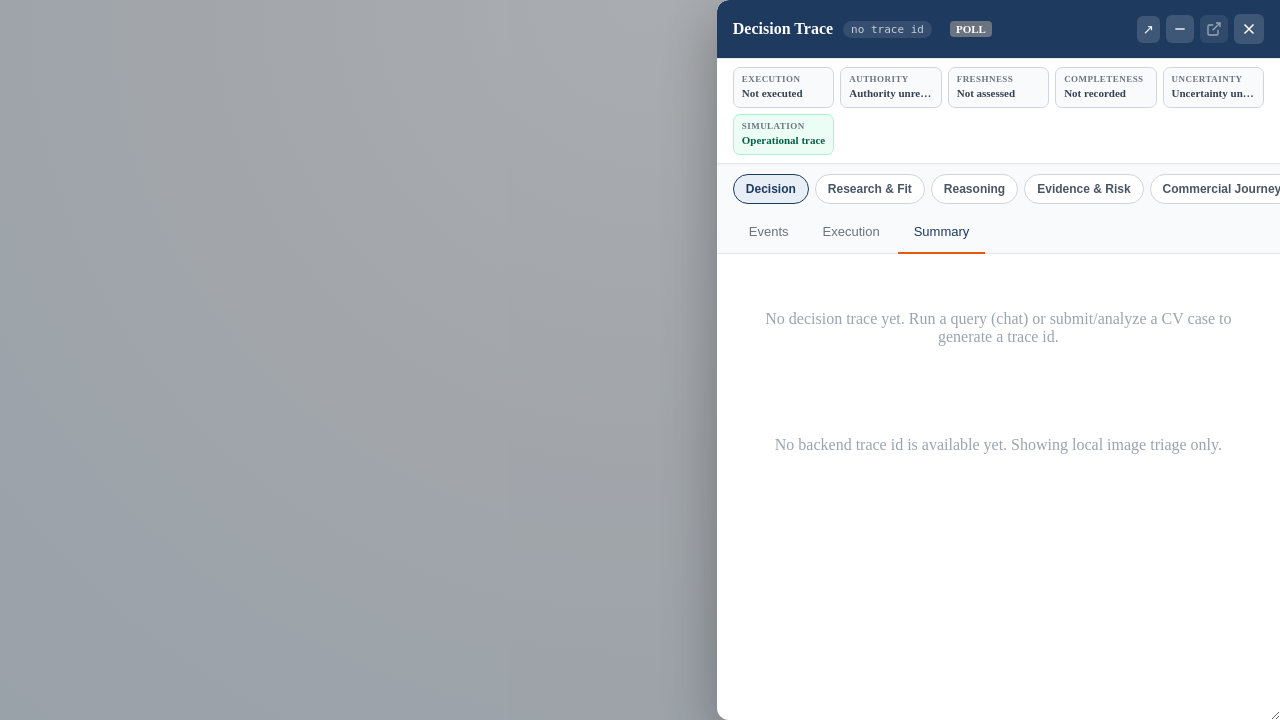
Test: Decision Trace rendered navigation › docks on desktop by default and can return to a floating panel
Click the button named "Float trace panel" at point(1148, 29), box top-left (1137, 16), bottom-right (1160, 42)
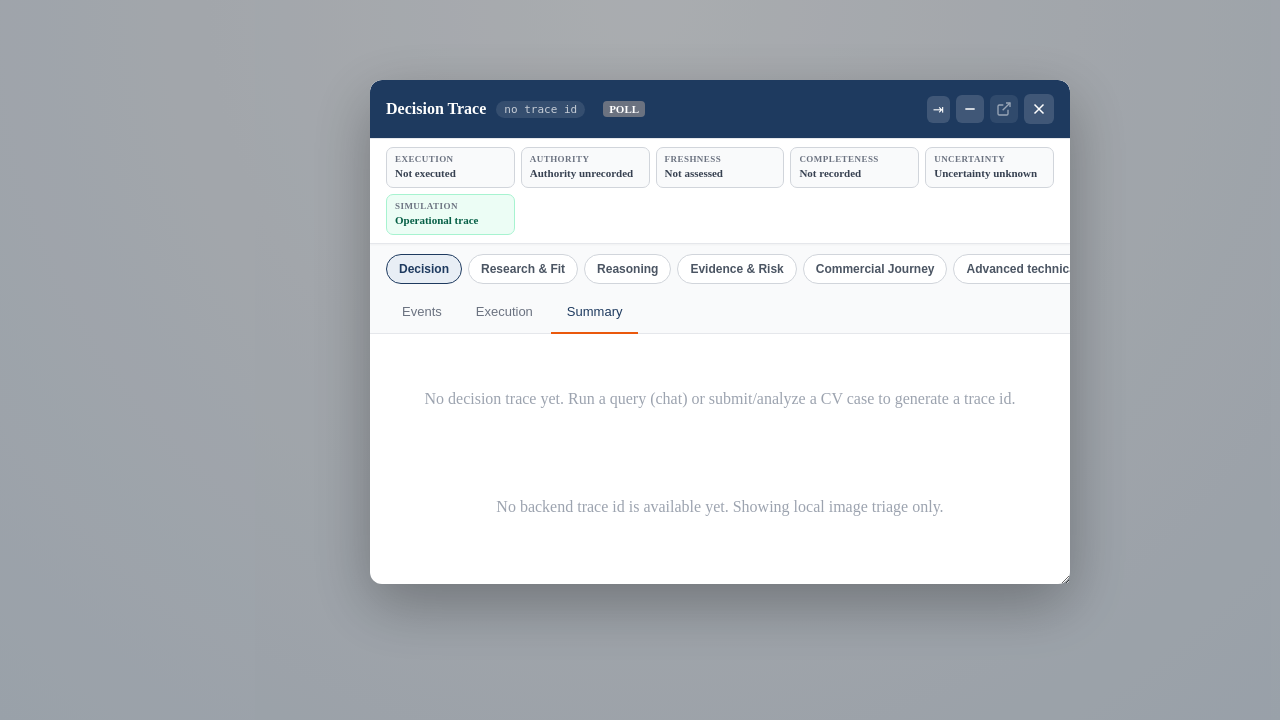
Check: the button named "Dock trace panel on the right" is shown, box top-left (927, 96), bottom-right (950, 122)
